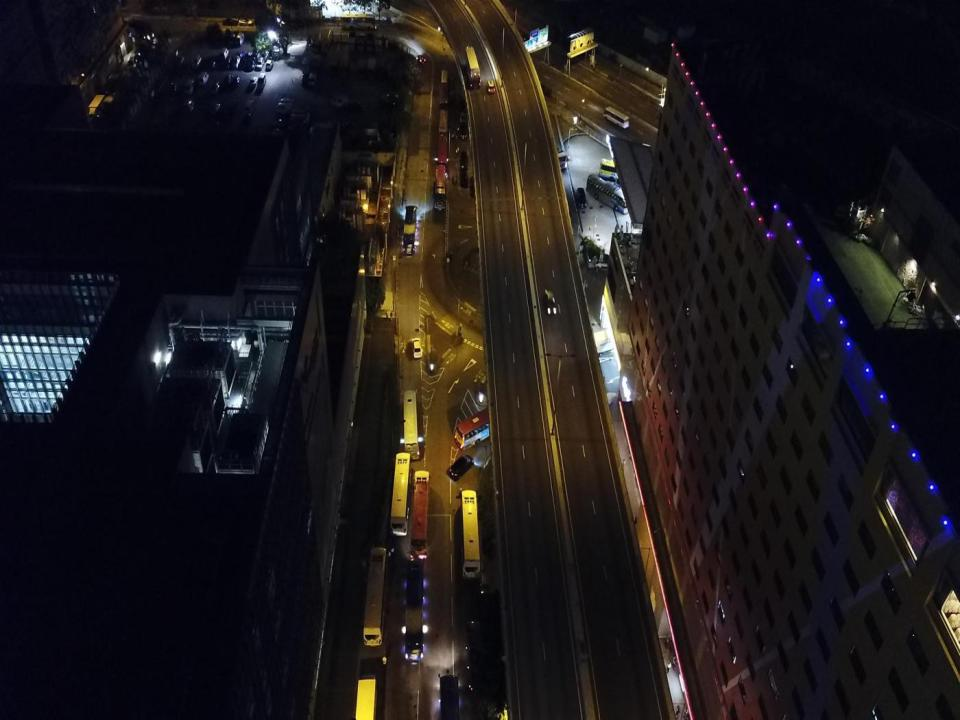bus: (364, 546, 388, 647), (455, 404, 505, 450), (404, 558, 424, 661), (586, 173, 632, 214), (460, 491, 480, 580), (390, 452, 411, 536), (410, 470, 428, 559), (599, 157, 648, 188), (402, 388, 420, 462), (614, 177, 654, 203), (439, 673, 461, 719), (402, 205, 417, 256), (465, 46, 480, 90), (604, 107, 630, 129), (341, 14, 376, 29), (435, 165, 446, 211), (437, 134, 448, 176), (440, 70, 449, 104), (439, 110, 448, 138), (487, 81, 494, 94)
car: (449, 454, 473, 480), (547, 290, 556, 315), (412, 338, 422, 359), (346, 102, 364, 112), (290, 119, 308, 127), (380, 99, 396, 108), (381, 92, 398, 100), (222, 18, 238, 26), (247, 56, 256, 70), (238, 18, 253, 26), (170, 80, 178, 94), (175, 56, 184, 68), (231, 56, 240, 68), (249, 76, 258, 88), (273, 119, 286, 127), (232, 76, 242, 86), (266, 58, 274, 70), (239, 58, 247, 70), (210, 82, 219, 92), (461, 122, 466, 139), (417, 54, 426, 63), (208, 60, 216, 70), (252, 50, 260, 60), (225, 74, 232, 85), (244, 52, 252, 60), (236, 51, 244, 58), (262, 52, 269, 60)
truck: (531, 136, 566, 171), (354, 673, 377, 719), (89, 94, 106, 123), (338, 54, 348, 75), (357, 58, 367, 78), (366, 58, 376, 78), (312, 30, 320, 53), (322, 29, 330, 52), (330, 55, 339, 75), (313, 56, 322, 75), (348, 31, 356, 51), (366, 32, 374, 52), (374, 33, 382, 51), (357, 32, 364, 52)
van: (275, 102, 293, 115), (576, 188, 586, 209), (331, 96, 348, 107), (292, 109, 310, 119), (290, 114, 308, 124), (184, 79, 195, 94), (198, 71, 209, 86), (278, 98, 294, 108), (460, 151, 468, 171), (460, 169, 468, 188), (257, 73, 266, 89), (235, 32, 245, 46), (245, 100, 254, 115), (192, 55, 202, 68), (184, 99, 193, 112), (220, 47, 228, 61), (256, 57, 264, 70), (308, 72, 316, 85), (230, 34, 236, 46)
